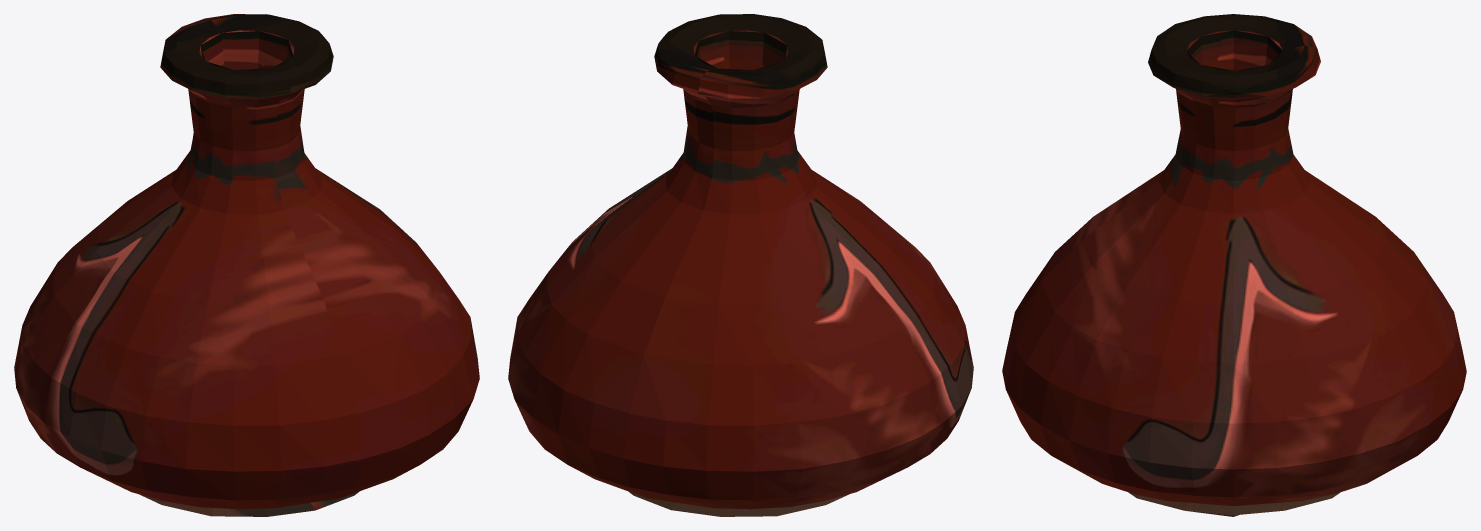
Rendered from vase1.glb.
3 views of the same model, side by side, from view 1: azimuth 30°, elevation 25°; view 2: azimuth 150°, elevation 25°; view 3: azimuth 270°, elevation 25° (orthographic).
Parts seen in each view (by area): view 1: vase1; view 2: vase1; view 3: vase1.
Part boxes in pixels (x1,y1,x2,y2): vase1: (14, 14, 479, 516); vase1: (508, 14, 973, 516); vase1: (1002, 14, 1466, 516).
Size of the model in its own units: 252 by 247 by 252.
1 material, 1 textured.
